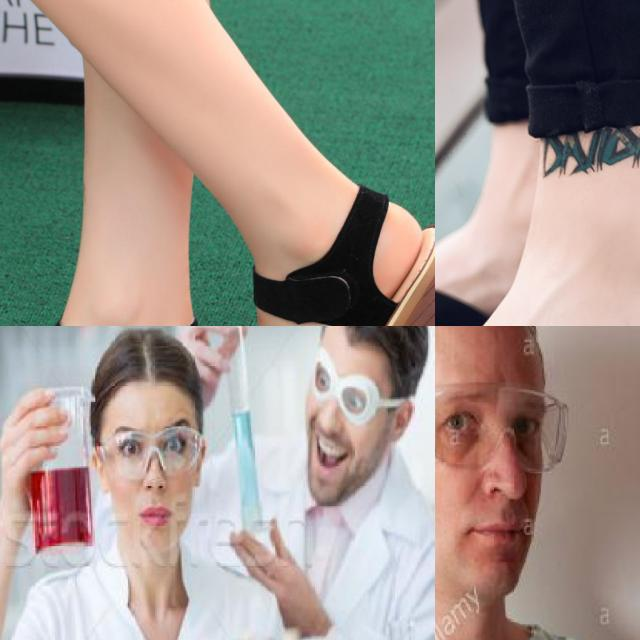Sandals: (223, 186, 435, 326)
face_nomask: (435, 396, 556, 556), (306, 355, 384, 480), (114, 420, 196, 536)
glasses: (435, 380, 569, 476), (96, 426, 204, 484), (306, 342, 380, 426)
hand_noglove: (222, 516, 316, 616), (0, 382, 74, 485), (176, 326, 247, 400)
head_nohelmet: (89, 326, 203, 404), (321, 326, 432, 371)
person: (0, 326, 284, 640), (217, 326, 435, 640), (435, 326, 640, 640)
